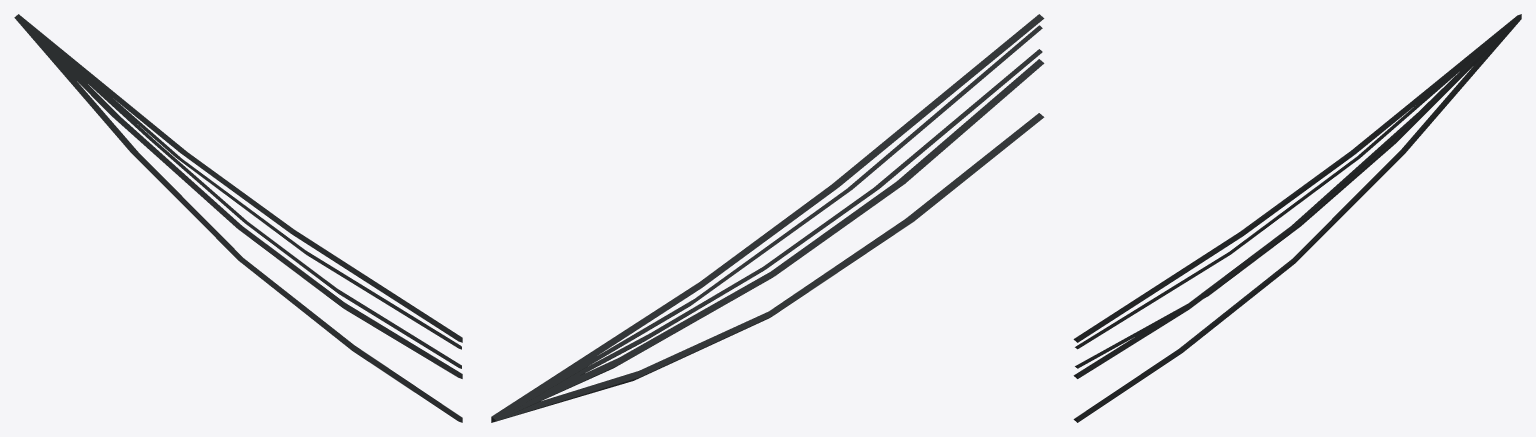
File: SM_Prop_Powerline_07.glb
The picture shows the model from 3 angles, left to right: view 1: azimuth 30°, elevation 25°; view 2: azimuth 150°, elevation 25°; view 3: azimuth 330°, elevation 25°; orthographic projection. The views are drawn at different scales.
Visible parts, largest first — view 1: SM_Prop_Powerline_07; view 2: SM_Prop_Powerline_07; view 3: SM_Prop_Powerline_07.
Part boxes in pixels (x1,y1,x2,y2): SM_Prop_Powerline_07: [14, 14, 462, 422]; SM_Prop_Powerline_07: [491, 14, 1044, 422]; SM_Prop_Powerline_07: [1073, 14, 1521, 422].
Bounding box in the file's own units: 0.1025 × 0.8883 × 7.7.
Materials: 1 (1 with a texture image).
